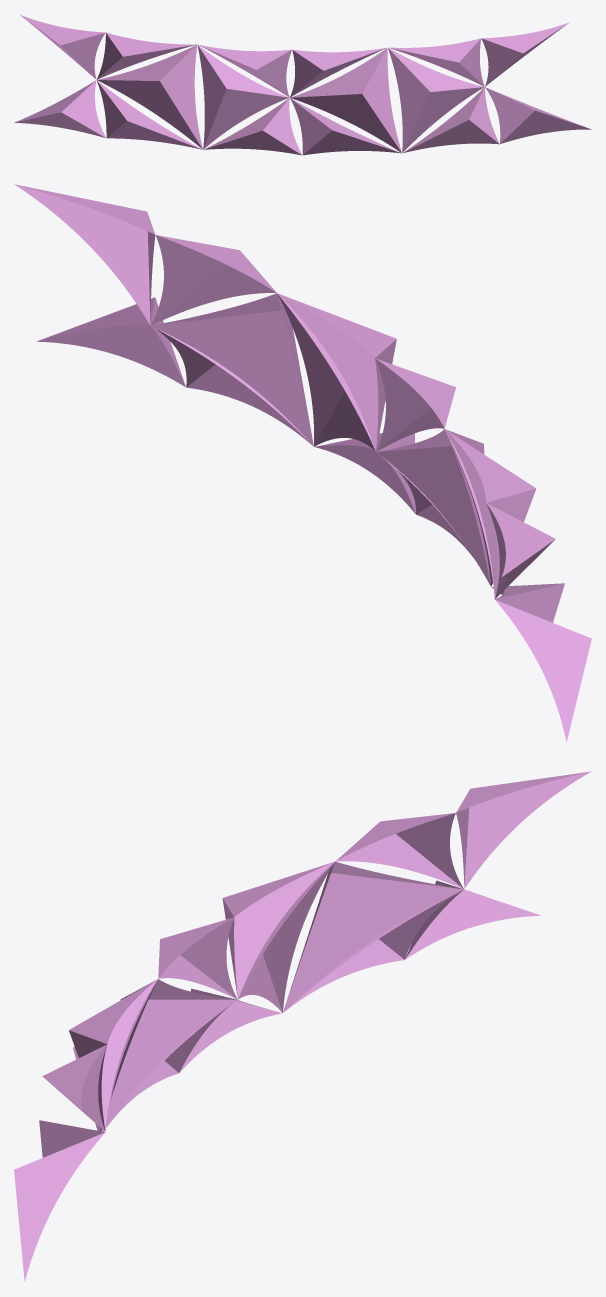
File: TYPE62-2.glb
3 renders of one model, top to bottom at view 1: azimuth 30°, elevation 25°; view 2: azimuth 150°, elevation 25°; view 3: azimuth 270°, elevation 25°, orthographic. The views are drawn at different scales.
Parts seen in each view (by area): view 1: TYPE62-2 (×46); view 2: TYPE62-2 (×26); view 3: TYPE62-2 (×27).
Part boxes in pixels (bbox=[...]): TYPE62-2 (×46): bbox=[14, 15, 591, 155]; TYPE62-2 (×26): bbox=[14, 184, 591, 741]; TYPE62-2 (×27): bbox=[14, 771, 591, 1281].
Bounding box in the file's own units: 19.86 × 4.27 × 13.36.
